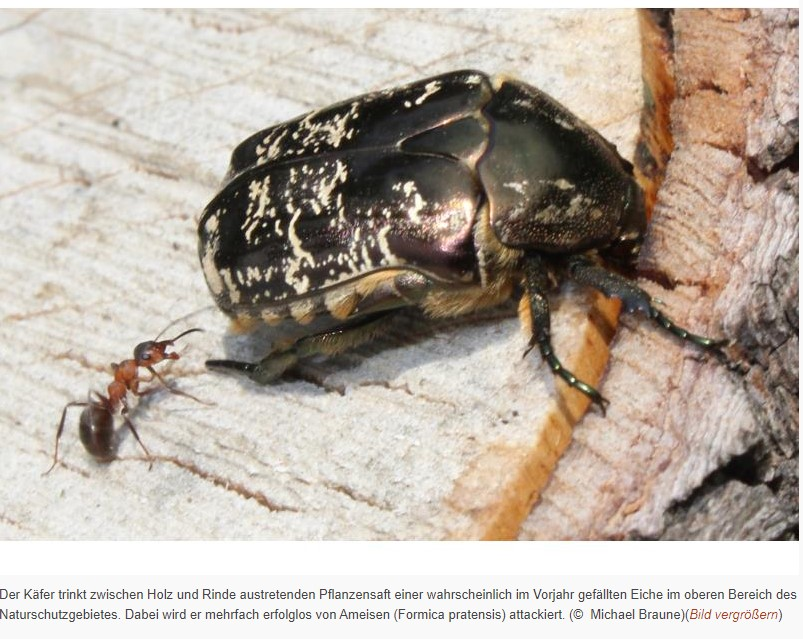Protaetia_lugubris: (177, 66, 735, 423)
